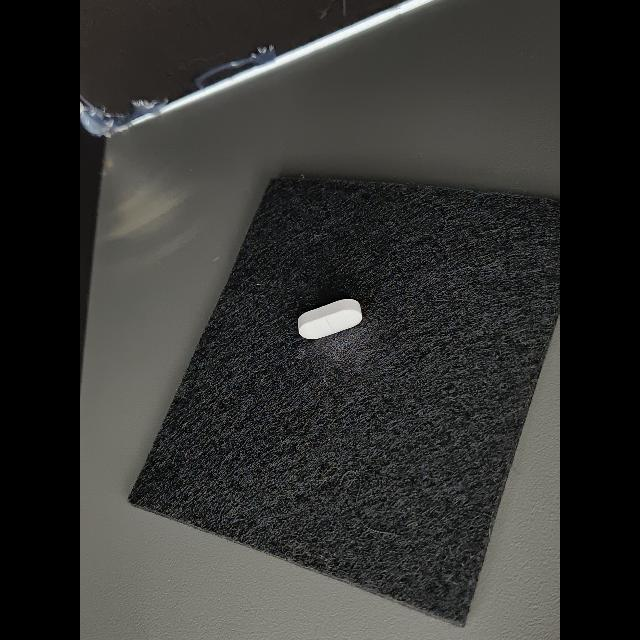Intact Pill: (298, 299, 362, 339)
